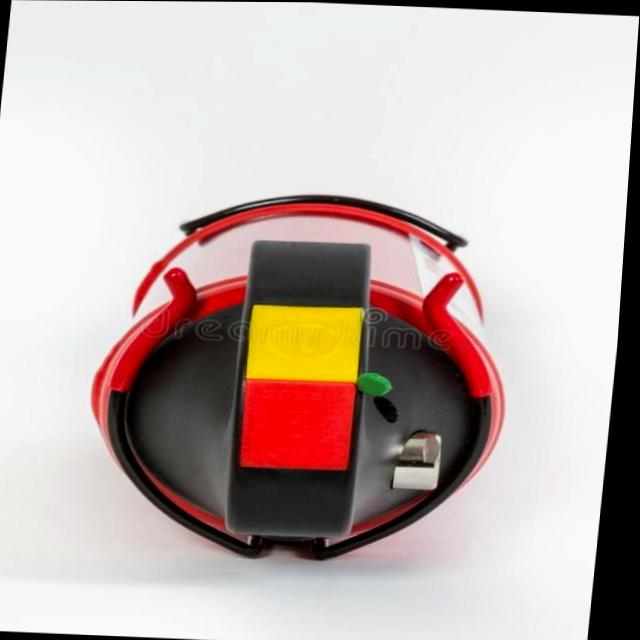FireExtinguisher: (74, 182, 534, 574)
